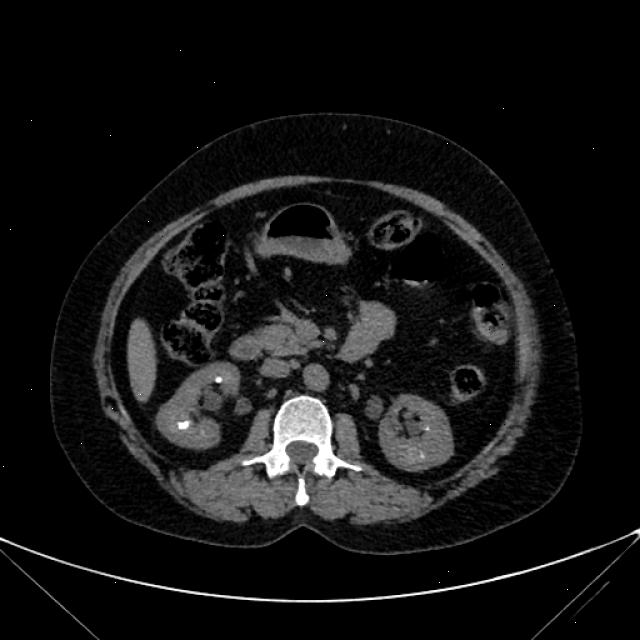kidneystone: (178, 421, 190, 429), (214, 376, 222, 383), (425, 426, 429, 432)
